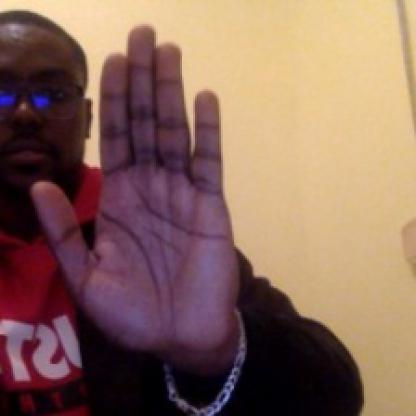TURN RIGHT: (25, 24, 261, 389)
